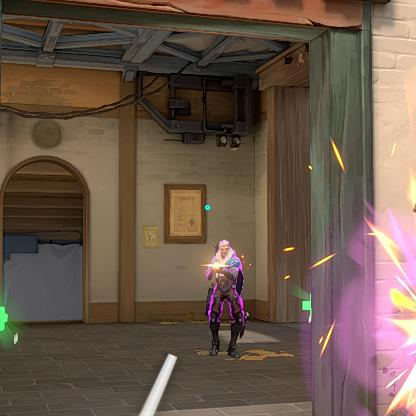enemyBody: (216, 262, 233, 290)
enemyHead: (221, 246, 228, 257)
